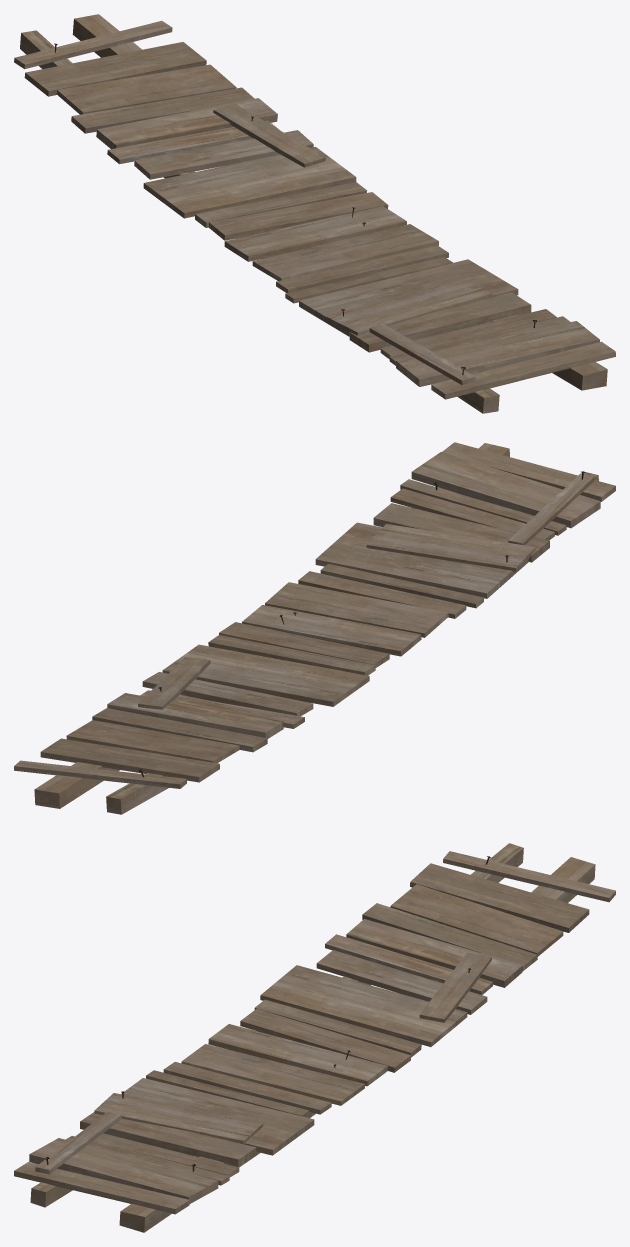
3 views of the same model, one above another, from view 1: azimuth 30°, elevation 25°; view 2: azimuth 150°, elevation 25°; view 3: azimuth 330°, elevation 25° (orthographic). The views are drawn at different scales.
Parts seen in each view (by area): view 1: body0_model0_lod0_mesh0; view 2: body0_model0_lod0_mesh0; view 3: body0_model0_lod0_mesh0.
Boxes of the visible parts, x1,y1,x2,y2 form: body0_model0_lod0_mesh0: (14,14,615,413); body0_model0_lod0_mesh0: (14,442,615,814); body0_model0_lod0_mesh0: (14,843,615,1232).
Bounding box in the file's own units: 100 × 28.15 × 472.
Materials: 2 (2 with a texture image).
